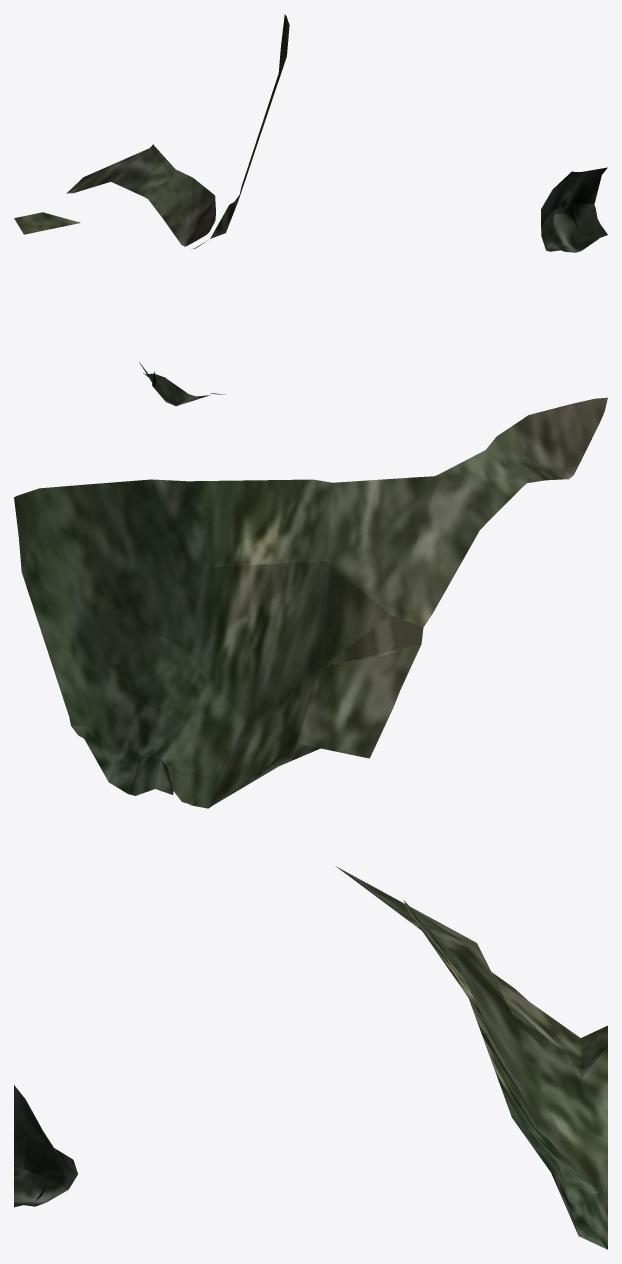
3 renders of one model, top to bottom at view 1: azimuth 30°, elevation 25°; view 2: azimuth 150°, elevation 25°; view 3: azimuth 270°, elevation 25°, orthographic. The views are drawn at different scales.
Size of the model in its own units: 2.95 by 1.59 by 2.95.
Materials: 2 (2 with a texture image).
